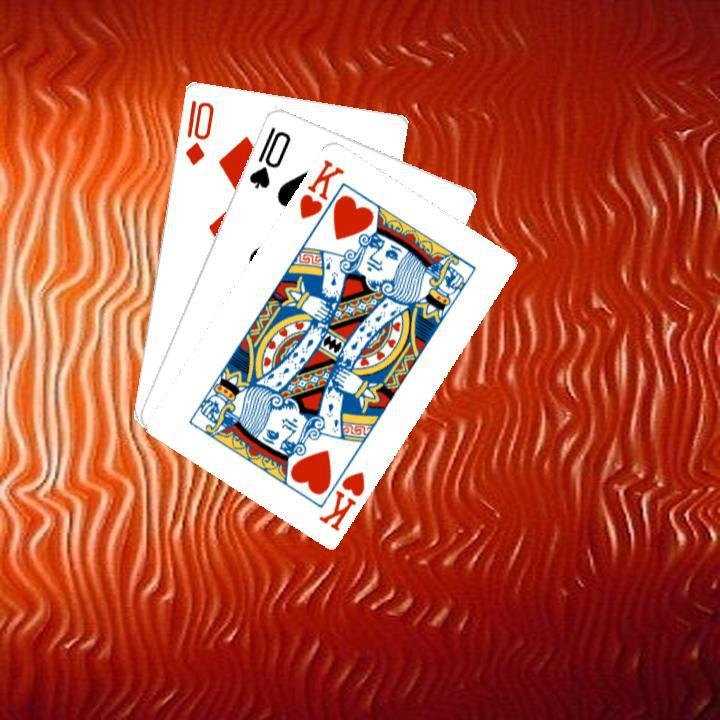10: (244, 121, 293, 191), (180, 95, 216, 167)
K: (314, 466, 367, 532), (294, 154, 346, 221)
